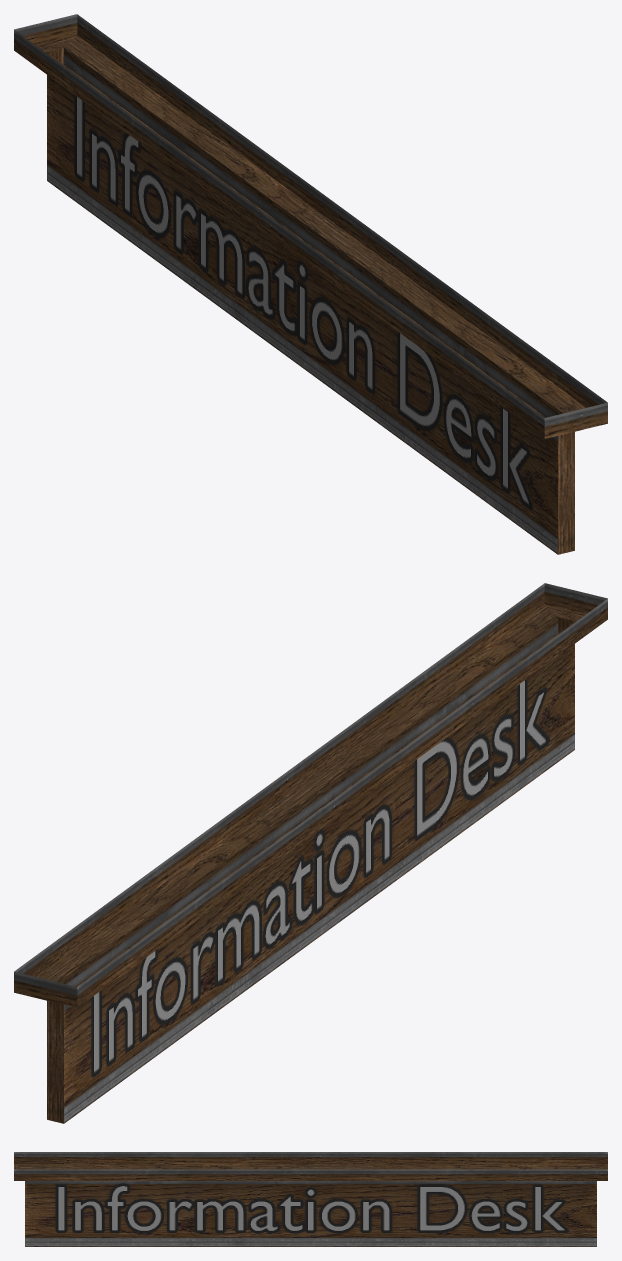
Rendered from HH_Information_Desk_Sign.fbx.
3 views of the same model, one above another, from view 1: azimuth 30°, elevation 25°; view 2: azimuth 150°, elevation 25°; view 3: azimuth 270°, elevation 25° (orthographic). The views are drawn at different scales.
Visible parts, largest first — view 1: HH_Information_Desk_Sign; view 2: HH_Information_Desk_Sign; view 3: HH_Information_Desk_Sign.
Part boxes in pixels (<box>): HH_Information_Desk_Sign: <box>14,14,607,554</box>; HH_Information_Desk_Sign: <box>14,583,607,1123</box>; HH_Information_Desk_Sign: <box>14,1152,607,1246</box>.
Size of the model in its own units: 37.9 by 85.84 by 552.
